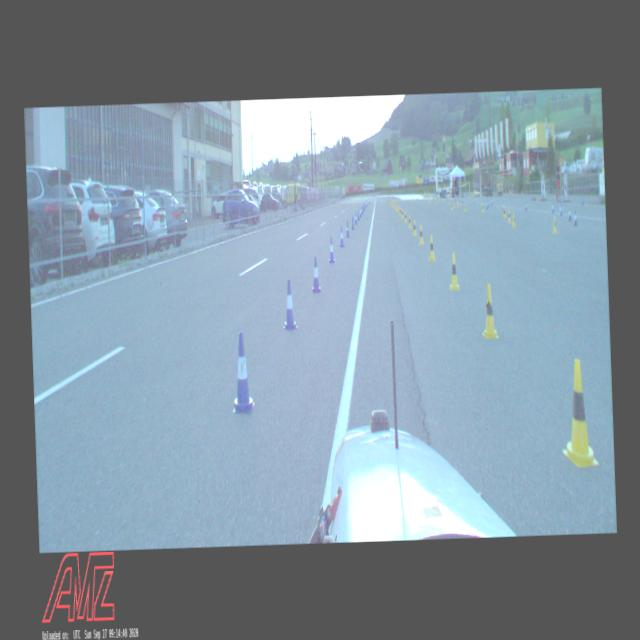blue_cone: (230, 332, 255, 412), (282, 279, 298, 329), (311, 256, 321, 292), (327, 236, 335, 262), (338, 226, 344, 246), (345, 221, 350, 237), (573, 210, 577, 225), (354, 212, 357, 224), (351, 217, 353, 230)
yellow_cone: (559, 357, 599, 468), (481, 282, 498, 338), (448, 253, 459, 290), (428, 234, 436, 261), (418, 226, 423, 244), (552, 216, 557, 232), (412, 219, 417, 235), (506, 209, 511, 223), (510, 213, 514, 227), (404, 210, 407, 222), (408, 214, 410, 228), (400, 208, 402, 218)
